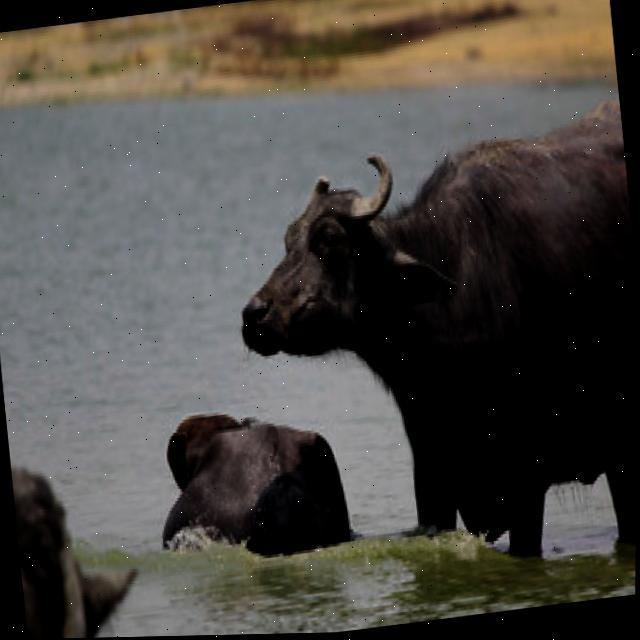Buffalo: (221, 107, 639, 399)
